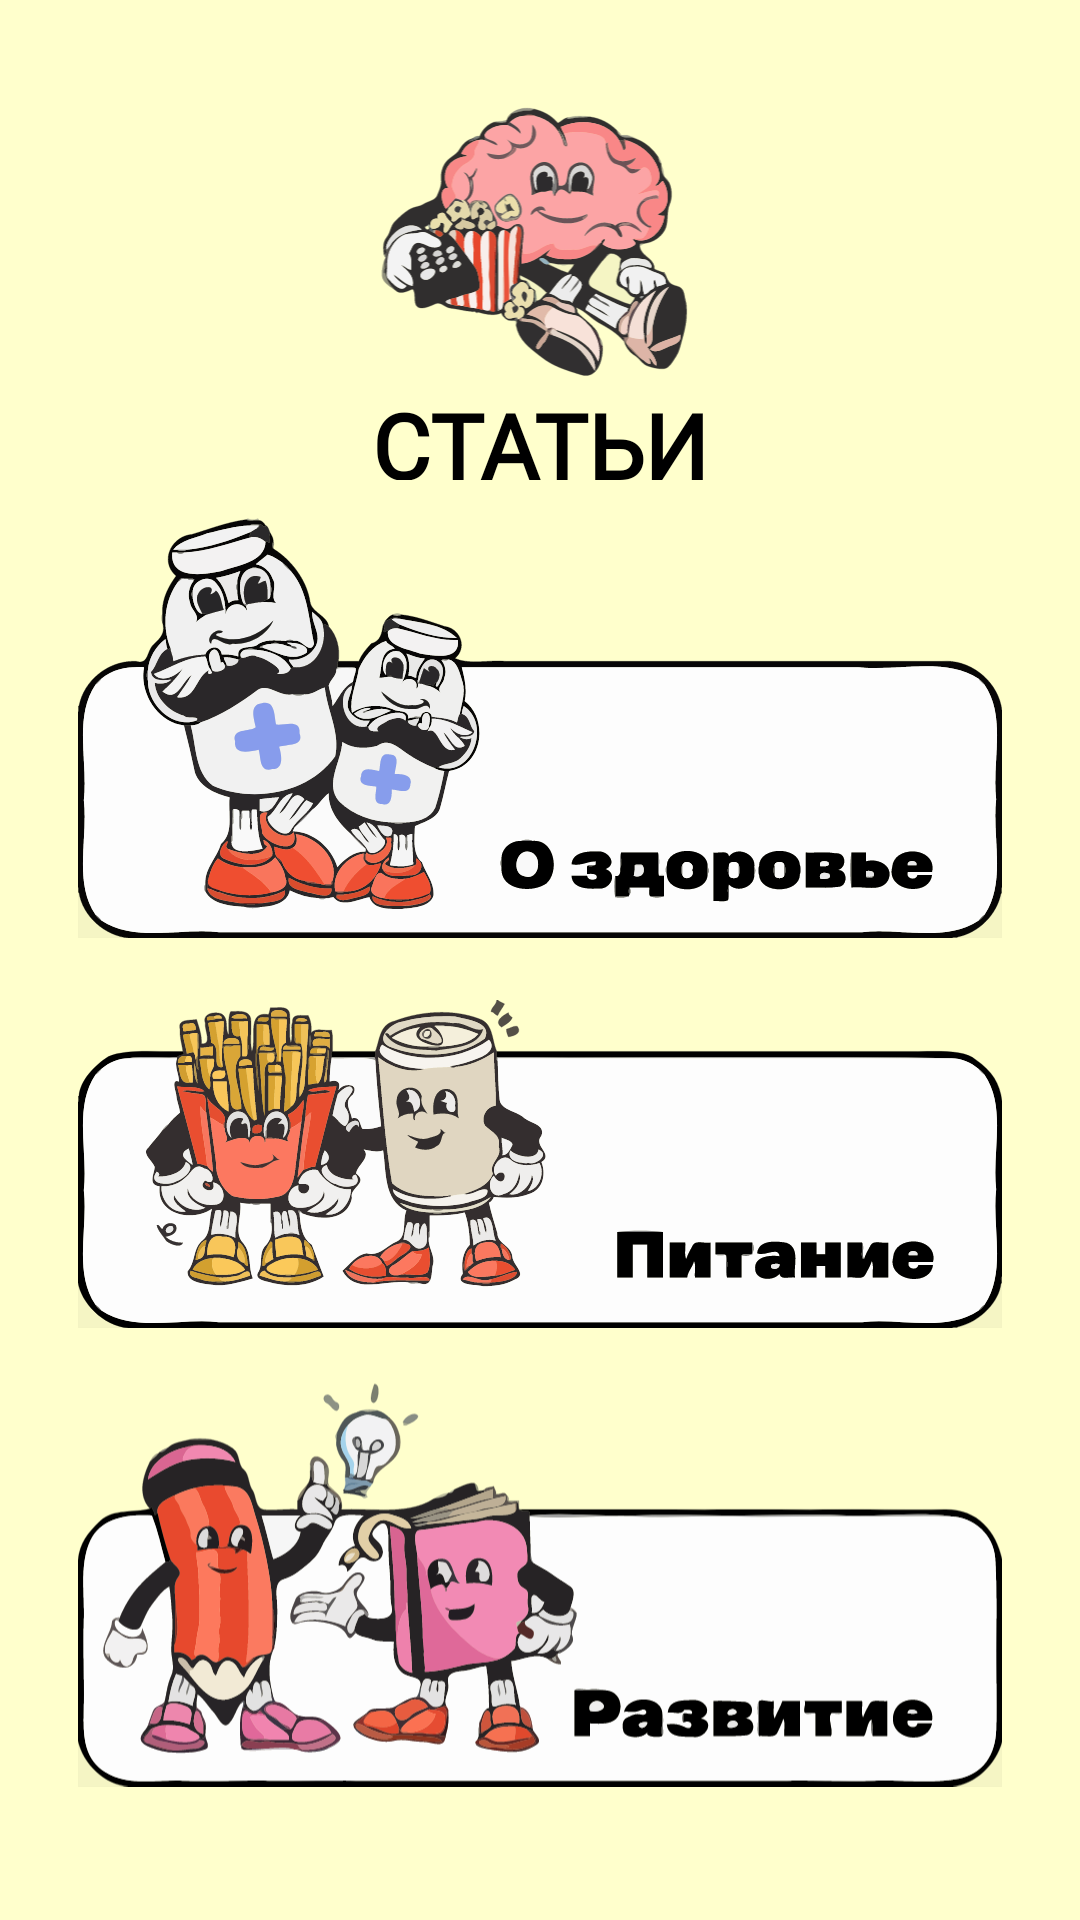

Point at icon controls on the screen. Image size 1080×1920, points as [x,y].
brain character: [534,242]
